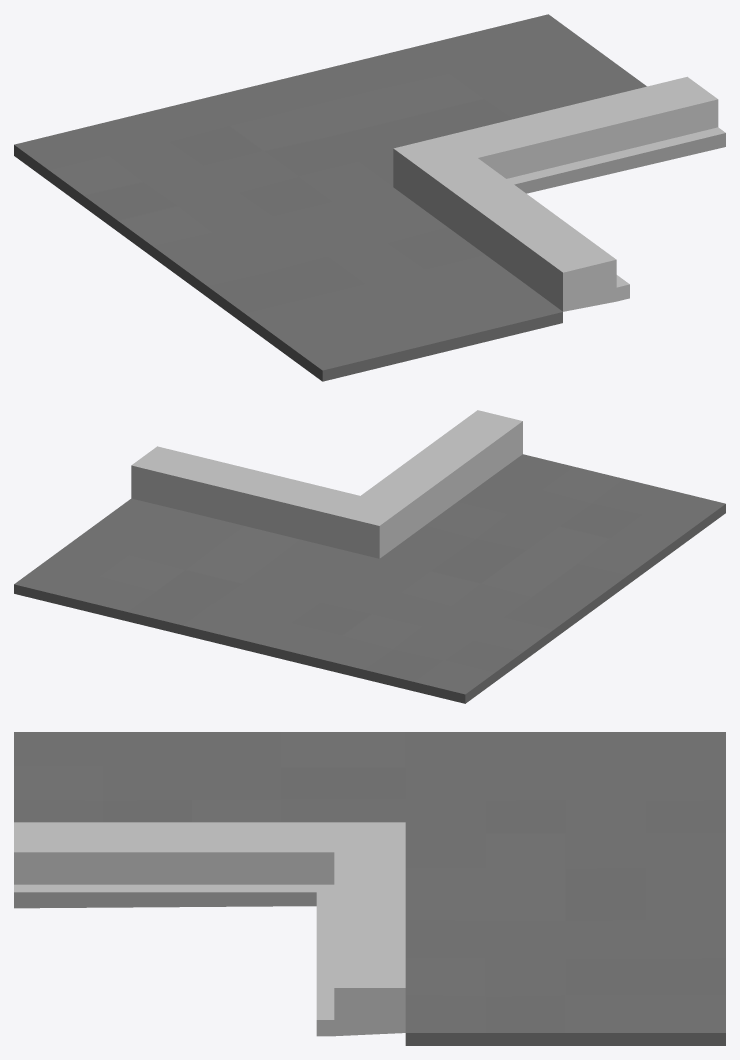
Rendered from RoofFlatCornerInv.glb.
The picture shows the model from 3 angles, top to bottom: view 1: azimuth 30°, elevation 25°; view 2: azimuth 150°, elevation 25°; view 3: azimuth 270°, elevation 25°; orthographic projection. The views are drawn at different scales.
Parts seen in each view (by area): view 1: RoofFlatCornerInv; view 2: RoofFlatCornerInv; view 3: RoofFlatCornerInv.
Part boxes in pixels (x1,y1,x2,y2): RoofFlatCornerInv: (14,14,725,381); RoofFlatCornerInv: (14,410,725,703); RoofFlatCornerInv: (14,732,725,1045).
Bounding box in the file's own units: 2 × 0.1799 × 2.
Materials: 1 (1 with a texture image).
